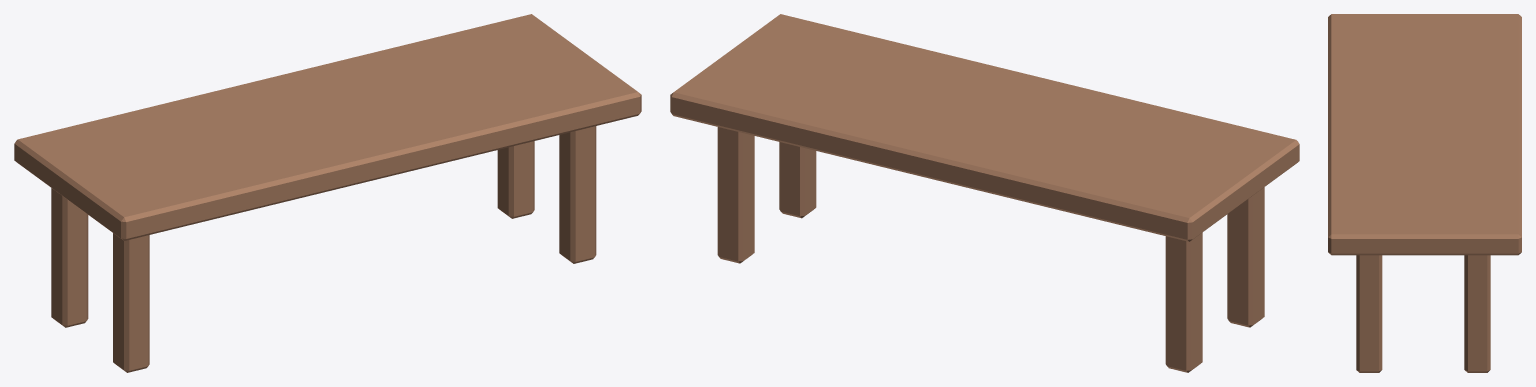
The model's file is Long table.fbx.
The picture shows the model from 3 angles, left to right: view 1: azimuth 30°, elevation 25°; view 2: azimuth 150°, elevation 25°; view 3: azimuth 270°, elevation 25°; orthographic projection. The views are drawn at different scales.
Parts seen in each view (by area): view 1: Long_table; view 2: Long_table; view 3: Long_table.
Part boxes in pixels (x1,y1,x2,y2): Long_table: [14, 14, 641, 372]; Long_table: [670, 14, 1299, 372]; Long_table: [1328, 14, 1521, 372].
Size of the model in its own units: 469 by 148 by 172.
